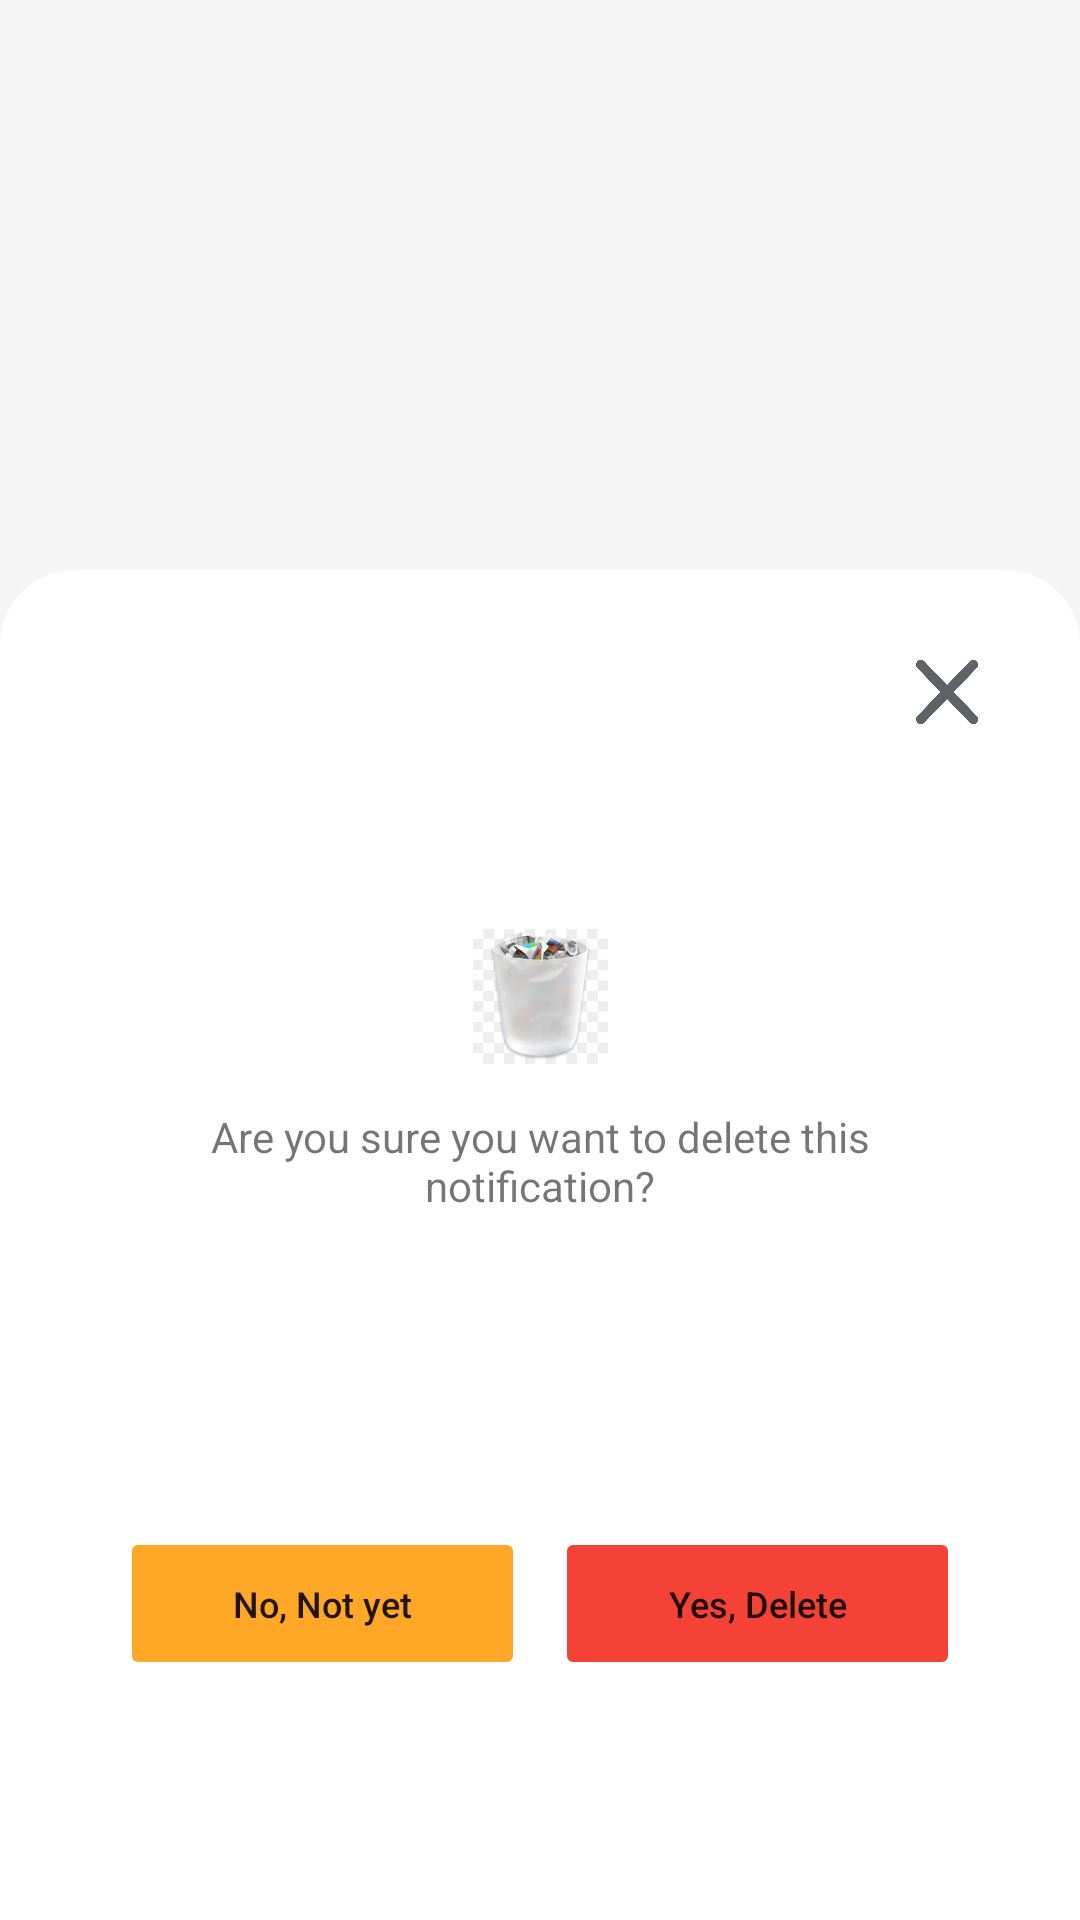

Named icons in this screenshot (1080 × 1920) and their bounding boxes, (x1, y1, x2, y2):
bin: (491, 932, 590, 1059)
close: (916, 660, 978, 724)
